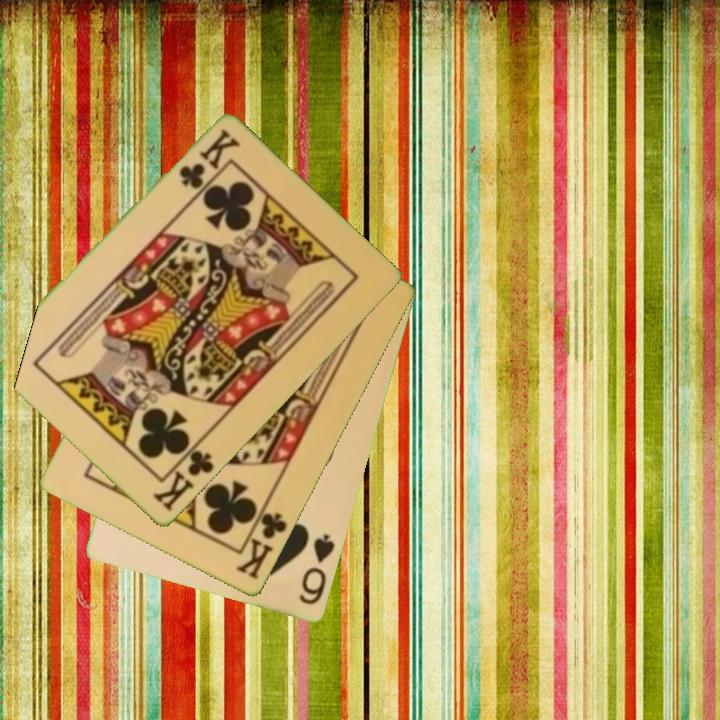6s: (295, 531, 338, 608)
Kc: (149, 438, 217, 515), (232, 500, 290, 583), (175, 125, 242, 193)
